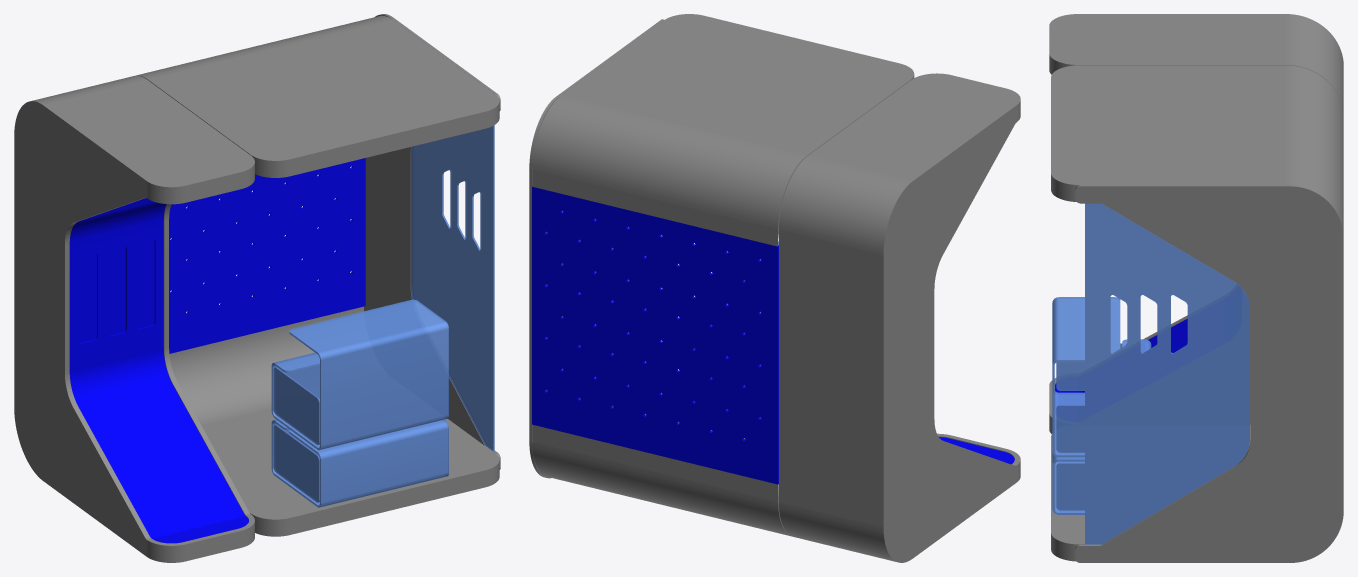
3 views of the same model, side by side, from view 1: azimuth 30°, elevation 25°; view 2: azimuth 150°, elevation 25°; view 3: azimuth 270°, elevation 25° (orthographic).
Visible parts, largest first — view 1: group_0 (×5), group_5 (×2), group_6, group_1, K_sto_1, group_2, K_sto_1_1, group_3, group_7; view 2: group_0, group_5 (×2), group_6, group_2; view 3: group_2, group_1, group_5 (×2), group_0 (×2), K_sto_1, group_4, group_8, group_3, K_sto_1_1.
Part boxes in pixels (left/top/right/bottom): group_0 (×5): left=14, top=75, right=254, bottom=562; group_5 (×2): left=136, top=15, right=499, bottom=536; group_6: left=169, top=158, right=365, bottom=353; group_1: left=411, top=125, right=494, bottom=451; K_sto_1: left=271, top=299, right=448, bottom=450; group_2: left=364, top=14, right=500, bottom=469; K_sto_1_1: left=271, top=419, right=448, bottom=507; group_3: left=273, top=367, right=319, bottom=444; group_7: left=273, top=425, right=319, bottom=502; group_0: left=779, top=73, right=1020, bottom=562; group_5 (×2): left=532, top=14, right=914, bottom=536; group_6: left=532, top=186, right=778, bottom=484; group_2: left=529, top=19, right=664, bottom=478; group_2: left=1075, top=185, right=1343, bottom=562; group_1: left=1085, top=203, right=1249, bottom=544; group_5 (×2): left=1051, top=65, right=1343, bottom=561; group_0 (×2): left=1049, top=14, right=1343, bottom=433; K_sto_1: left=1052, top=297, right=1151, bottom=457; group_4: left=1056, top=405, right=1084, bottom=452; group_8: left=1056, top=463, right=1084, bottom=510; group_3: left=1056, top=343, right=1122, bottom=390; K_sto_1_1: left=1052, top=452, right=1084, bottom=514.
Bounding box in the file's own units: 85.06 × 61.42 × 86.61.
